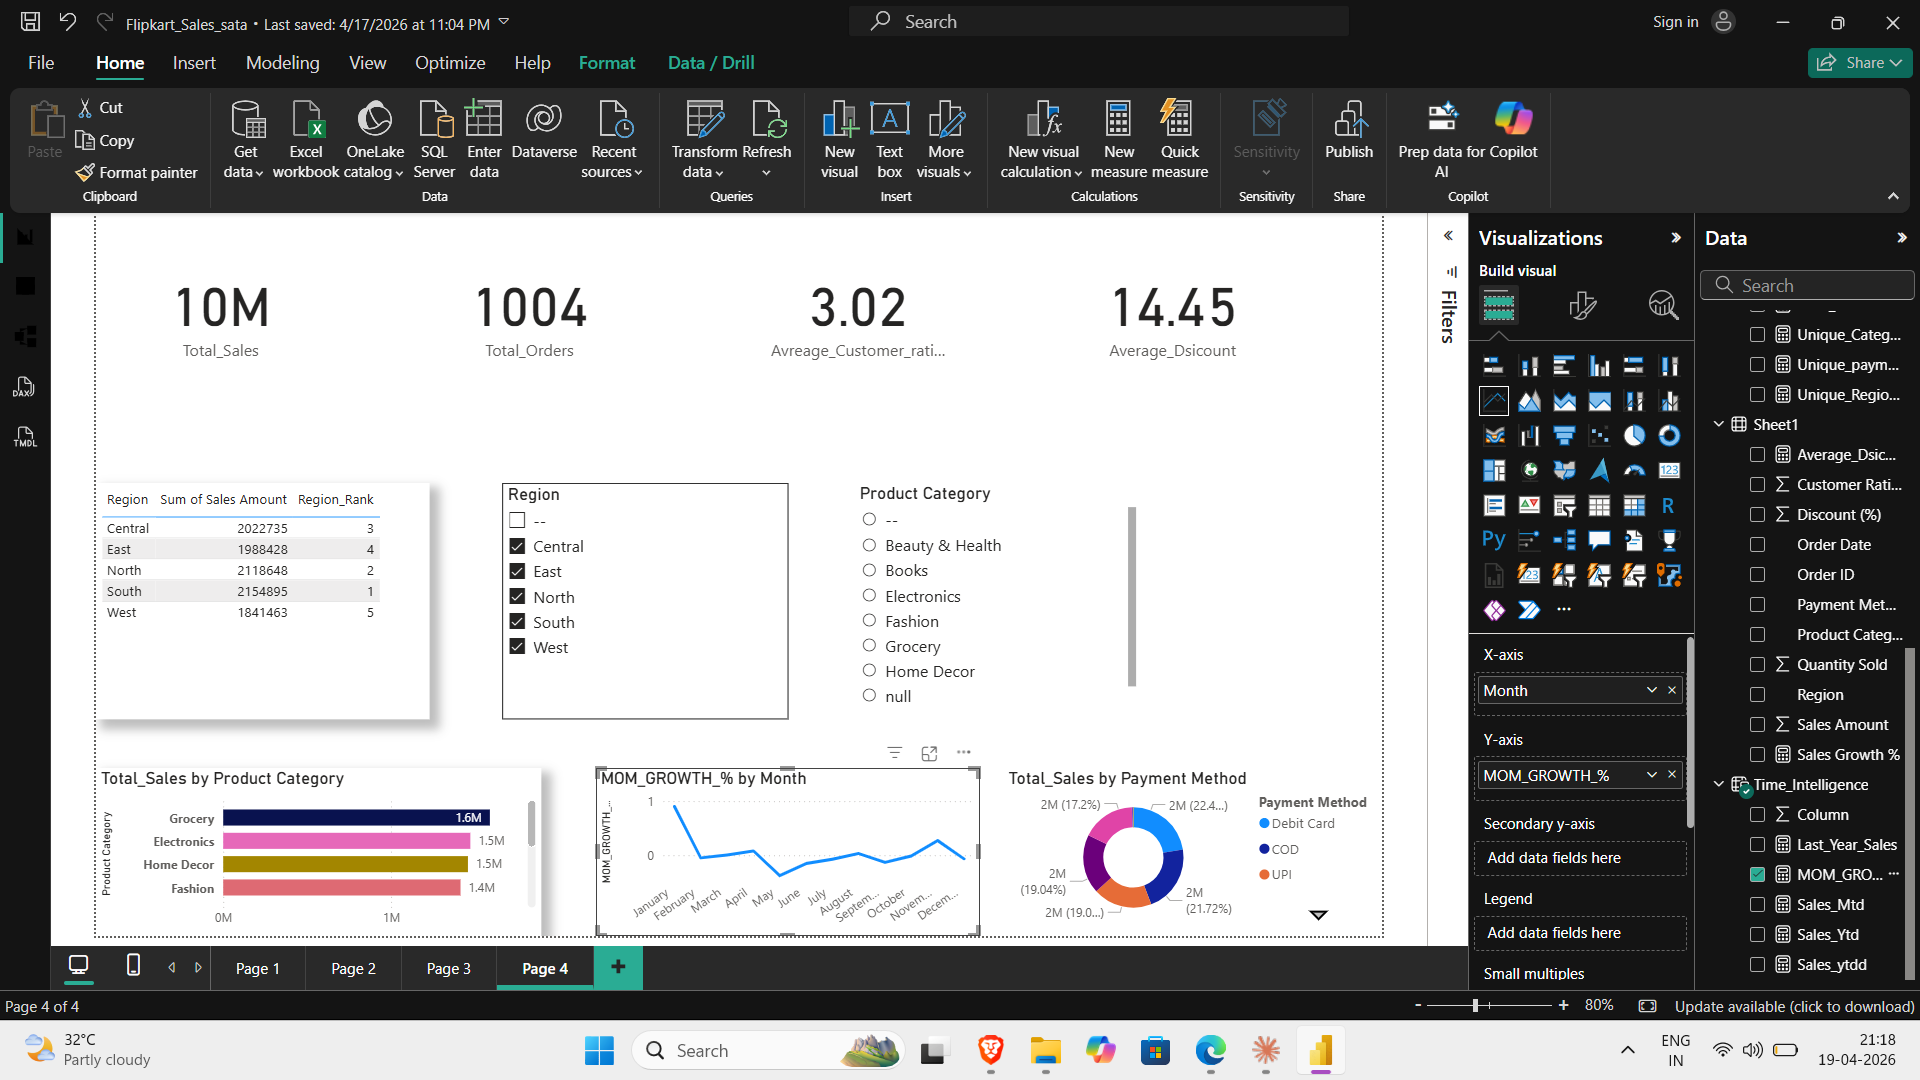

The page's visual inventory and layout, read from the dashboard file:
{"tool":"powerbi","page":{"name":"Page 4","canvas":[1280,720],"ordinal":1},"visuals":[{"type":"card","fields":{"Values":["Measure.Total_Sales"]},"box":[24.9,29.9,199,135.6],"z":0},{"type":"card","fields":{"Values":["Measure.Total_Orders"]},"box":[342.1,29.9,179.1,135.6],"z":1000},{"type":"card","fields":{"Values":["Measure.Avreage_Customer_rating"]},"box":[664.3,29.9,189.1,135.6],"z":2000},{"type":"card","fields":{"Values":["Sheet1.Average_Dsicount"]},"box":[977.8,29.9,187.8,135.6],"z":3000},{"type":"barChart","fields":{"Y":["Measure.Total_Sales"],"Category":["Sheet1.Product Category"]},"box":[0,552.3,442.8,167.9],"z":4000},{"type":"lineChart","fields":{"Category":["Date.Month"],"Y":["Time_Intelligence.MOM_GROWTH_%"]},"box":[497.6,552.3,381.9,167.9],"z":5000},{"type":"donutChart","fields":{"Category":["Sheet1.Payment Method"],"Y":["Measure.Total_Sales"]},"box":[903.1,552.3,376.9,159.2],"z":6000},{"type":"tableEx","fields":{"Values":["Sheet1.Region","Sum(Sheet1.Sales Amount)","Advance_Functions.Region_Rank"]},"box":[0,268.7,332.1,235.1],"z":7000},{"type":"listSlicer","fields":{"Values":["Sheet1.Region"]},"box":[497.6,268.7,284.9,235.1],"z":8000},{"type":"listSlicer","fields":{"Values":["Sheet1.Product Category"]},"box":[929.2,268.7,284.9,235.1],"z":9000}]}

Visuals, with their boxes on the page's 1280x720 design canvas (x1, y1, x2, y2). These are canvas units, not pixel positions in the 1920x1080 screenshot, which may show the page scaled, cropped or inside an application window:
card - Measure.Total_Sales: <region>25, 30, 224, 166</region>
card - Measure.Total_Orders: <region>342, 30, 521, 166</region>
card - Measure.Avreage_Customer_rating: <region>664, 30, 853, 166</region>
card - Sheet1.Average_Dsicount: <region>978, 30, 1166, 166</region>
barChart - Measure.Total_Sales x Sheet1.Product Category: <region>0, 552, 443, 720</region>
lineChart - Date.Month x Time_Intelligence.MOM_GROWTH_%: <region>498, 552, 880, 720</region>
donutChart - Sheet1.Payment Method x Measure.Total_Sales: <region>903, 552, 1280, 712</region>
tableEx - Sheet1.Region x Sum(Sheet1.Sales Amount): <region>0, 269, 332, 504</region>
listSlicer - Sheet1.Region: <region>498, 269, 782, 504</region>
listSlicer - Sheet1.Product Category: <region>929, 269, 1214, 504</region>
